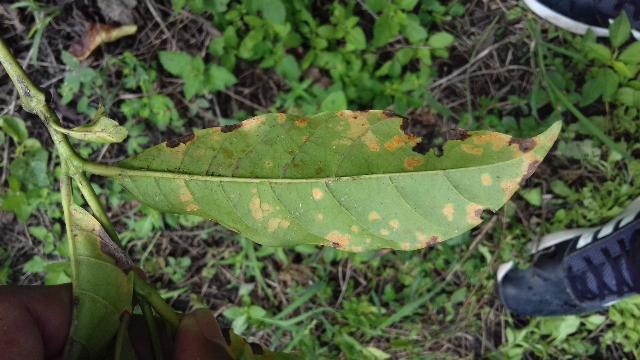rust_level_2: (93, 105, 566, 252)
